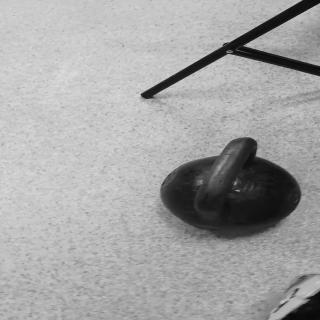girya: (161, 138, 303, 230)
